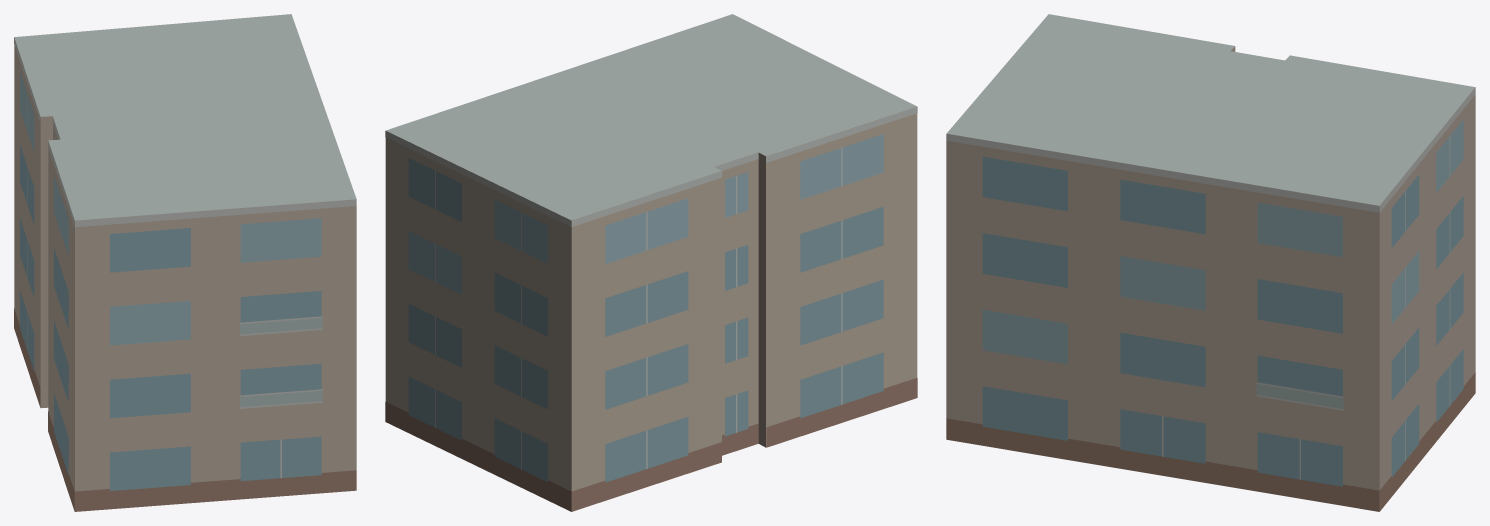
Rendered from survey-upis-32520769.glb.
3 renders of one model, left to right at view 1: azimuth 30°, elevation 25°; view 2: azimuth 150°, elevation 25°; view 3: azimuth 270°, elevation 25°, orthographic. The views are drawn at different scales.
Visible parts, largest first — view 1: survey-upis-32520769.tmp; view 2: survey-upis-32520769.tmp; view 3: survey-upis-32520769.tmp.
Boxes of the visible parts, box(x1,y1,x2,y2) form: survey-upis-32520769.tmp: box(14, 14, 356, 511); survey-upis-32520769.tmp: box(385, 14, 917, 511); survey-upis-32520769.tmp: box(946, 14, 1475, 511).
Size of the model in its own units: 14.33 by 10.65 by 16.7.
